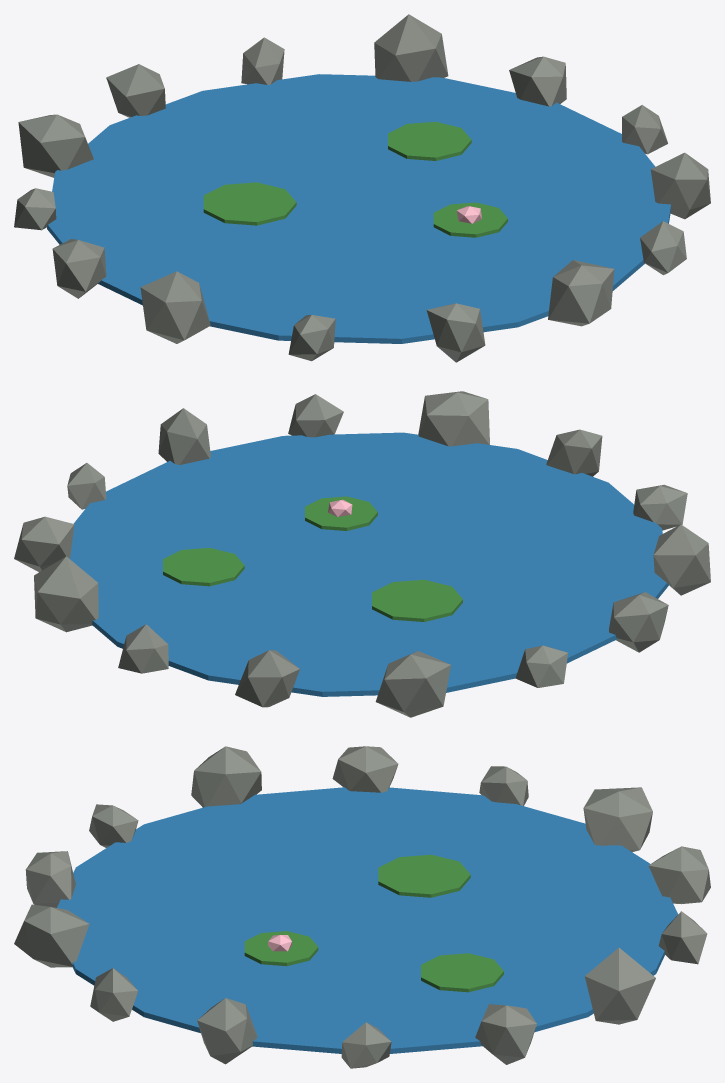
Rendered from pond.glb.
The picture shows the model from 3 angles, top to bottom: view 1: azimuth 30°, elevation 25°; view 2: azimuth 150°, elevation 25°; view 3: azimuth 270°, elevation 25°; orthographic projection. The views are drawn at different scales.
Visible parts, largest first — view 1: pond; view 2: pond; view 3: pond.
Part boxes in pixels (<box>): pond: <box>14,14,710,362</box>; pond: <box>14,391,710,717</box>; pond: <box>14,746,710,1068</box>.
Size of the model in its own units: 7.28 by 0.936 by 7.32.
